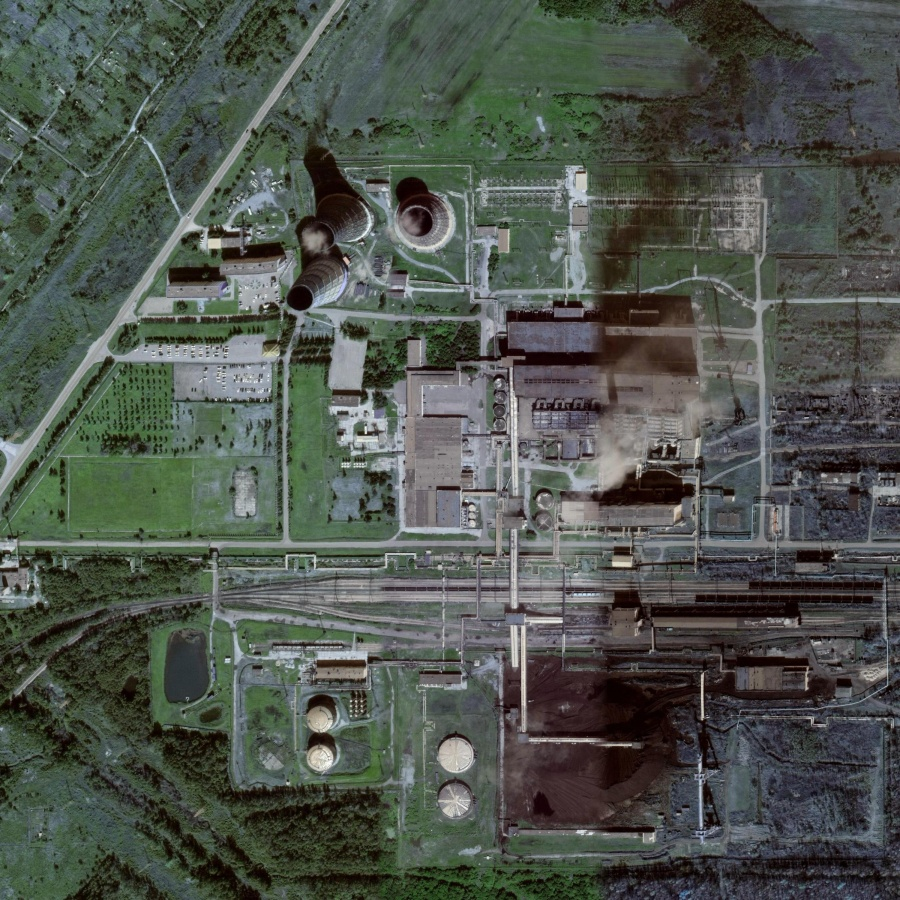PowerPlant: (265, 153, 754, 849)
